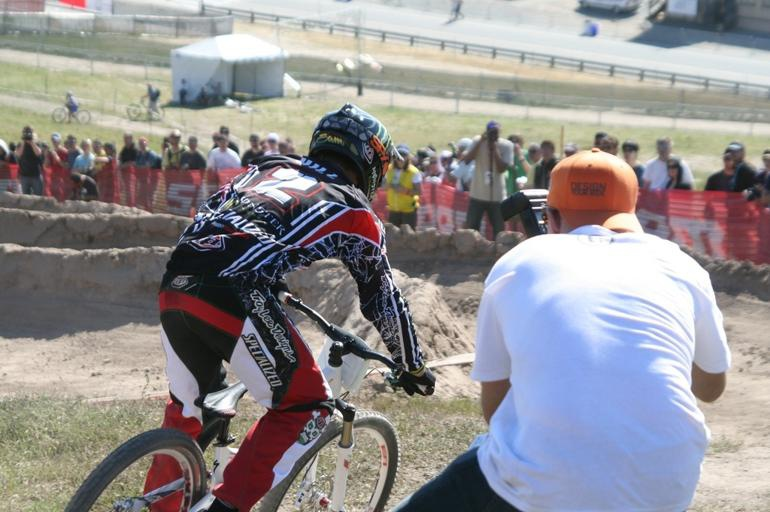non-vehicle: (59, 285, 438, 510), (124, 96, 166, 122), (50, 102, 92, 125)
